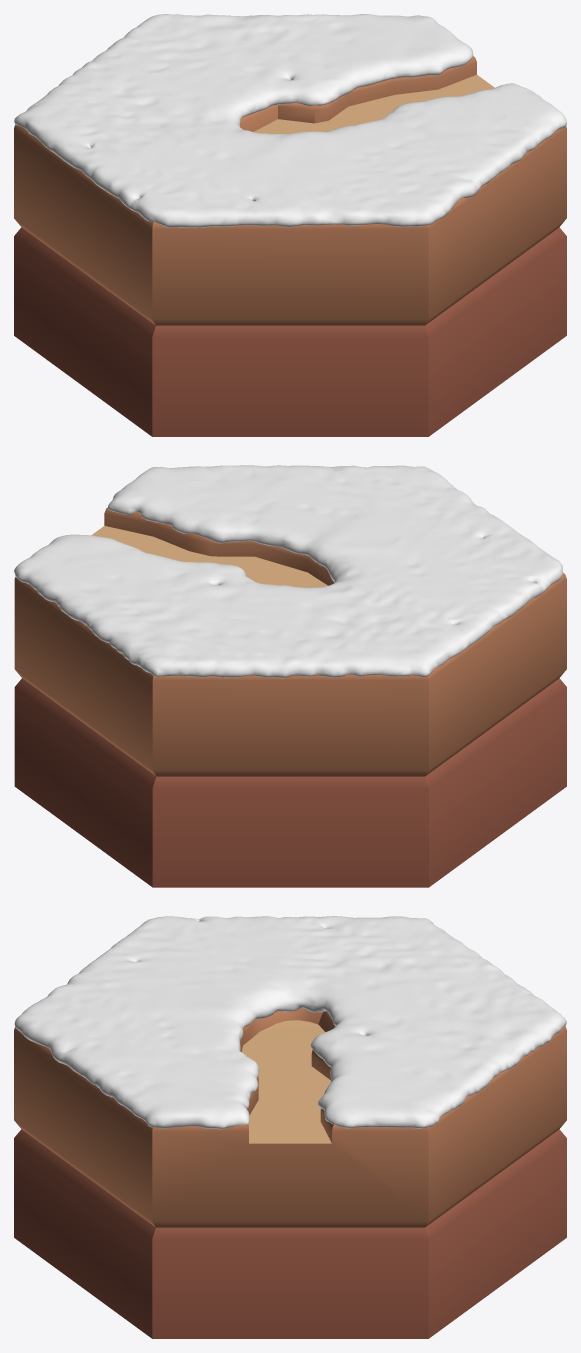
The model's file is hex_rock_roadA_detail.fbx.
3 renders of one model, top to bottom at view 1: azimuth 30°, elevation 25°; view 2: azimuth 150°, elevation 25°; view 3: azimuth 270°, elevation 25°, orthographic.
Parts seen in each view (by area): view 1: SnowBall.001, hex_rock_roadA_detail.002, hex_rock_roadA_detail.001, hex_rock_roadA_detail; view 2: SnowBall.001, hex_rock_roadA_detail.002, hex_rock_roadA_detail.001, hex_rock_roadA_detail; view 3: SnowBall.001, hex_rock_roadA_detail.002, hex_rock_roadA_detail.001, hex_rock_roadA_detail.
Boxes of the visible parts, x1,y1,x2,y2 form: SnowBall.001: (14, 14, 566, 227); hex_rock_roadA_detail.002: (14, 227, 566, 436); hex_rock_roadA_detail.001: (14, 56, 566, 325); hex_rock_roadA_detail: (254, 75, 494, 133); SnowBall.001: (14, 465, 563, 678); hex_rock_roadA_detail.002: (14, 678, 566, 887); hex_rock_roadA_detail.001: (14, 507, 566, 776); hex_rock_roadA_detail: (91, 526, 327, 587); SnowBall.001: (14, 916, 566, 1129); hex_rock_roadA_detail.002: (14, 1129, 566, 1338); hex_rock_roadA_detail.001: (14, 1008, 566, 1227); hex_rock_roadA_detail: (241, 1020, 331, 1143).
Bounding box in the file's own units: 202 × 104 × 231.
